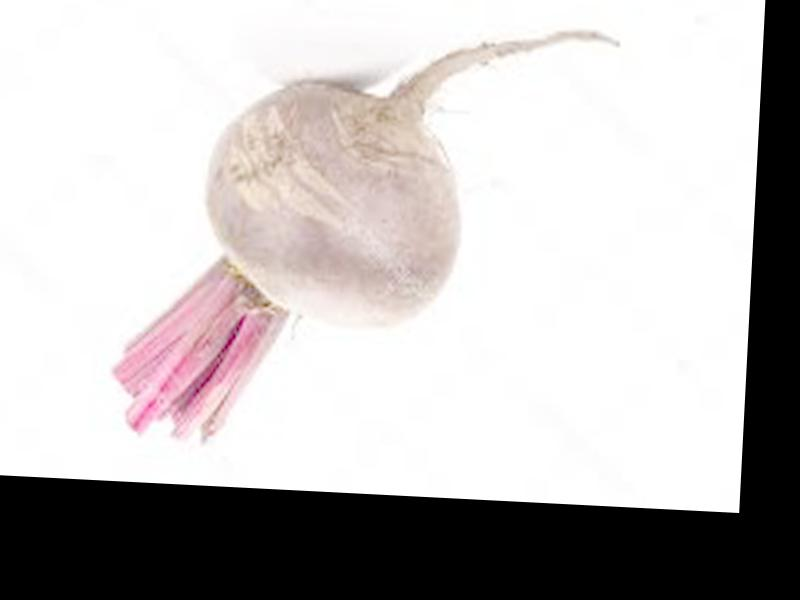Beet: (113, 9, 620, 461)
